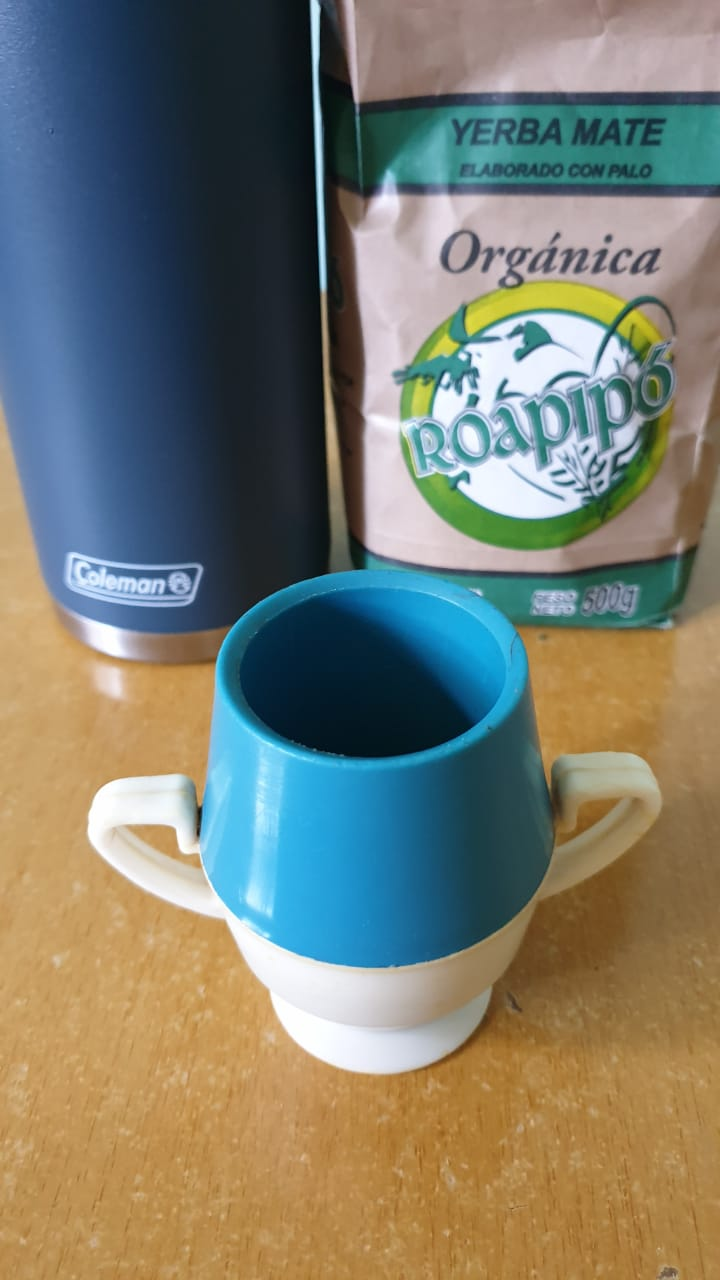mate: (69, 554, 678, 1100)
plastico: (76, 554, 670, 1092)
